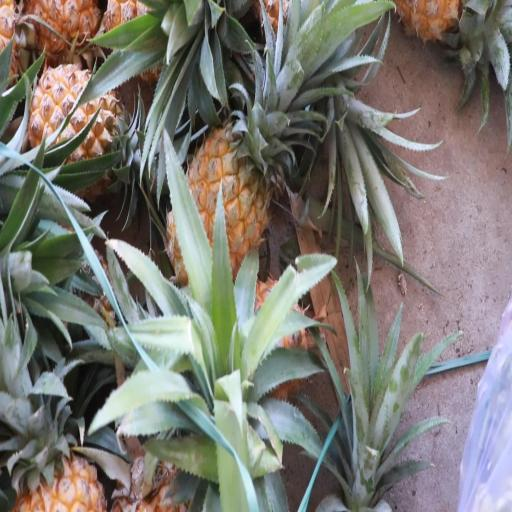Pineapple - v8 v1: (162, 111, 277, 305), (22, 51, 129, 203)
